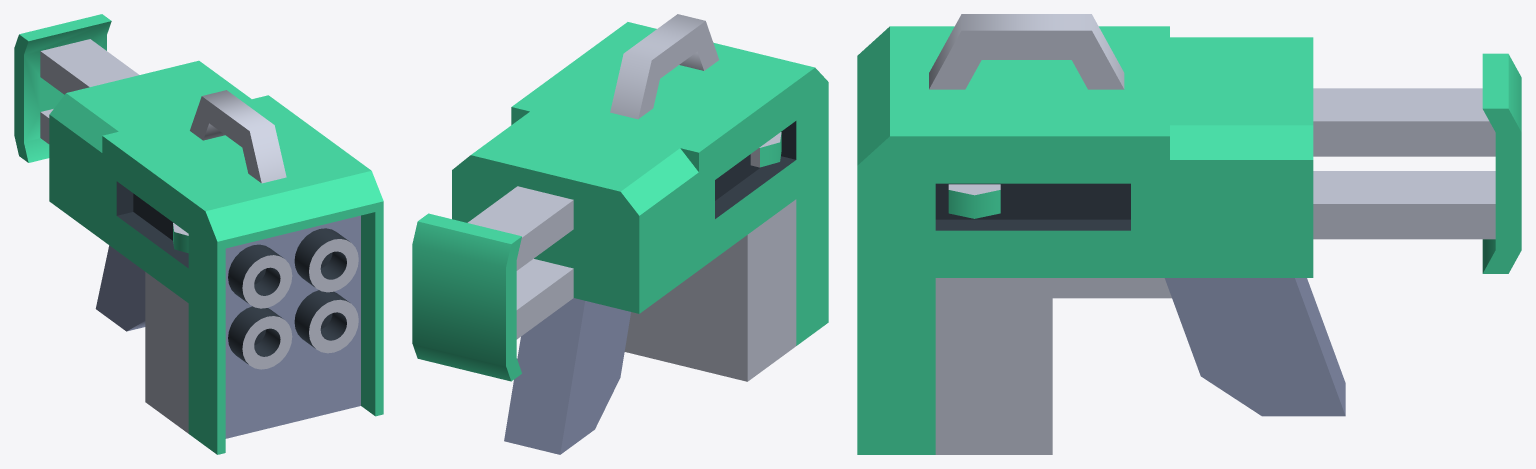
The model's file is blasterO.glb.
3 views of the same model, side by side, from view 1: azimuth 30°, elevation 25°; view 2: azimuth 150°, elevation 25°; view 3: azimuth 270°, elevation 25° (orthographic). The views are drawn at different scales.
Visible parts, largest first — view 1: blasterO; view 2: blasterO; view 3: blasterO.
Part boxes in pixels (x1,y1,x2,y2): blasterO: (14,14,383,454); blasterO: (412,14,828,454); blasterO: (857,14,1521,454).
Size of the model in its own units: 0.2 by 0.32 by 0.51.
